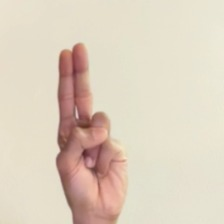U: (38, 42, 145, 224)
